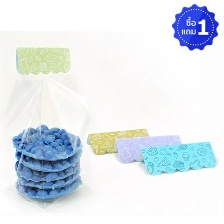snack: (0, 37, 94, 213)
